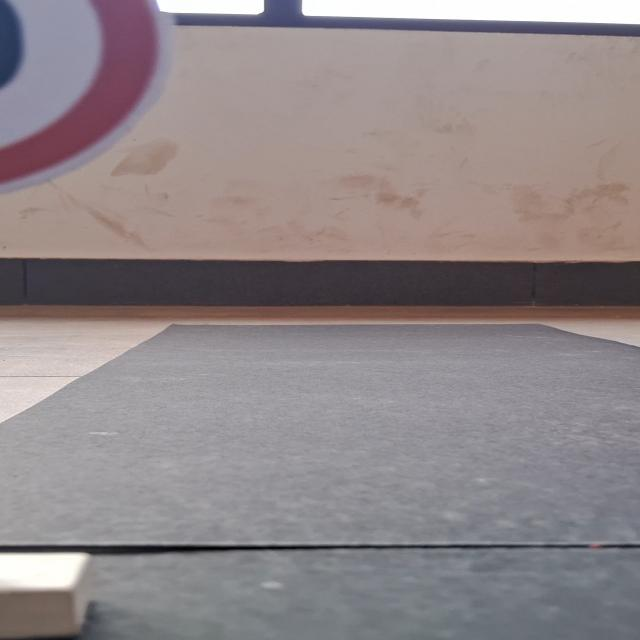Reject: (0, 0, 220, 185)
